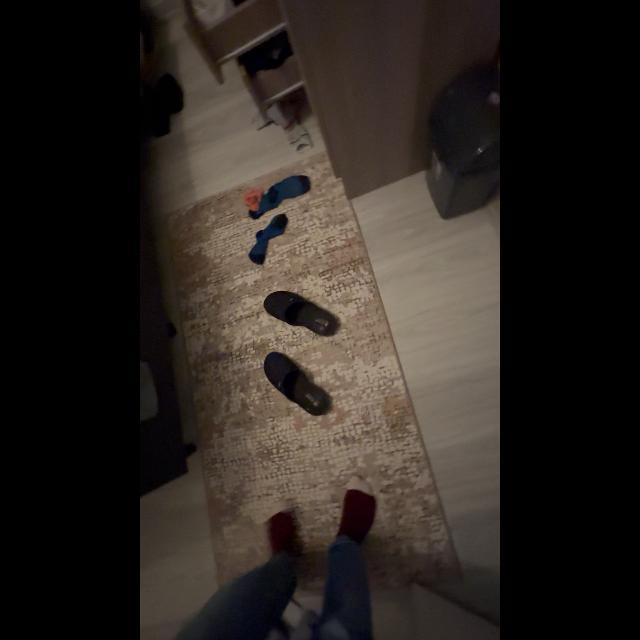slipper: (259, 348, 341, 422), (255, 286, 349, 340)
